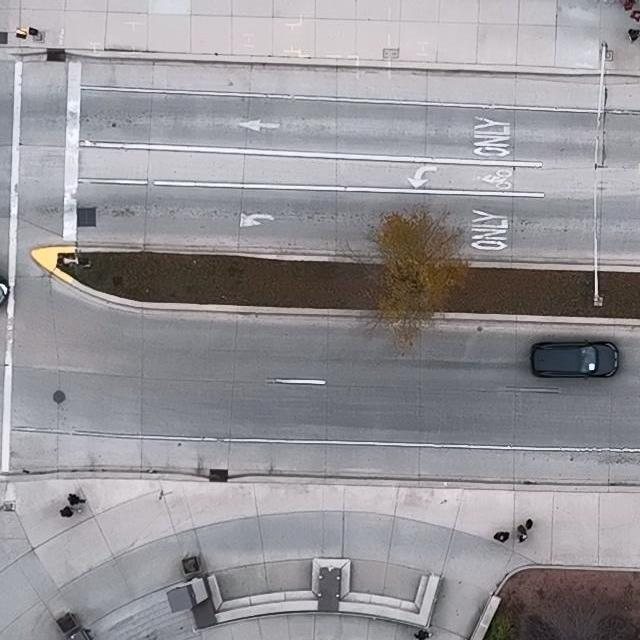car: (529, 339, 619, 379)
